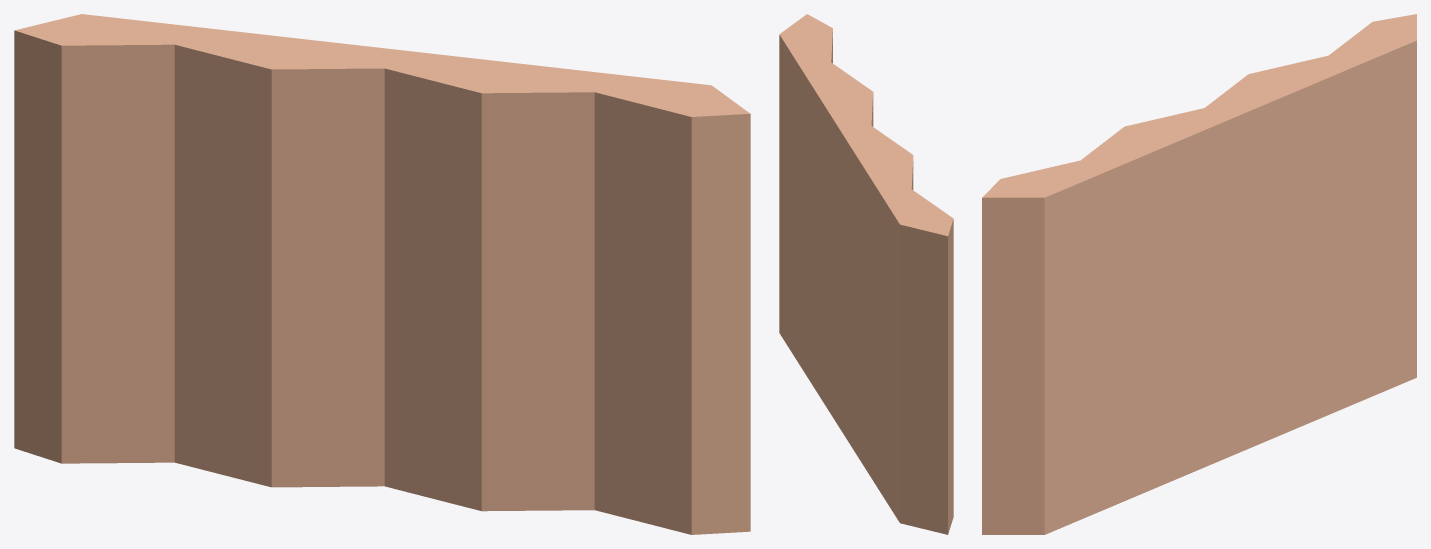
The model's file is cliff_diagonal_rock.gltf.
3 renders of one model, left to right at view 1: azimuth 30°, elevation 25°; view 2: azimuth 150°, elevation 25°; view 3: azimuth 270°, elevation 25°, orthographic. The views are drawn at different scales.
Visible parts, largest first — view 1: cliff_diagonal_rock; view 2: cliff_diagonal_rock; view 3: cliff_diagonal_rock.
Boxes of the visible parts, x1,y1,x2,y2 form: cliff_diagonal_rock: [14, 14, 750, 534]; cliff_diagonal_rock: [779, 14, 953, 534]; cliff_diagonal_rock: [982, 14, 1416, 534].
Size of the model in its own units: 1.17 by 1 by 1.17.
